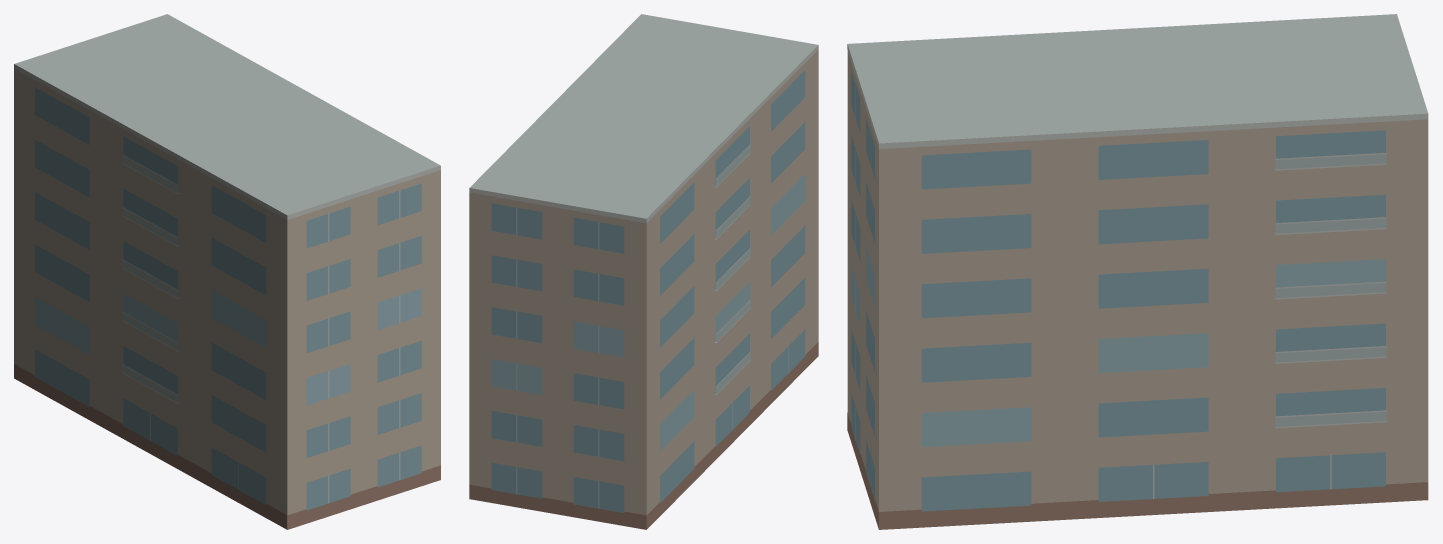
The model's file is survey-upis-32739341.glb.
The picture shows the model from 3 angles, left to right: view 1: azimuth 30°, elevation 25°; view 2: azimuth 150°, elevation 25°; view 3: azimuth 270°, elevation 25°; orthographic projection. The views are drawn at different scales.
Parts seen in each view (by area): view 1: survey-upis-32739341.tmp; view 2: survey-upis-32739341.tmp; view 3: survey-upis-32739341.tmp.
Boxes of the visible parts, x1,y1,x2,y2 form: survey-upis-32739341.tmp: [14, 14, 440, 529]; survey-upis-32739341.tmp: [469, 14, 818, 529]; survey-upis-32739341.tmp: [847, 14, 1428, 529].
Bounding box in the file's own units: 12.08 × 16.8 × 22.9.
